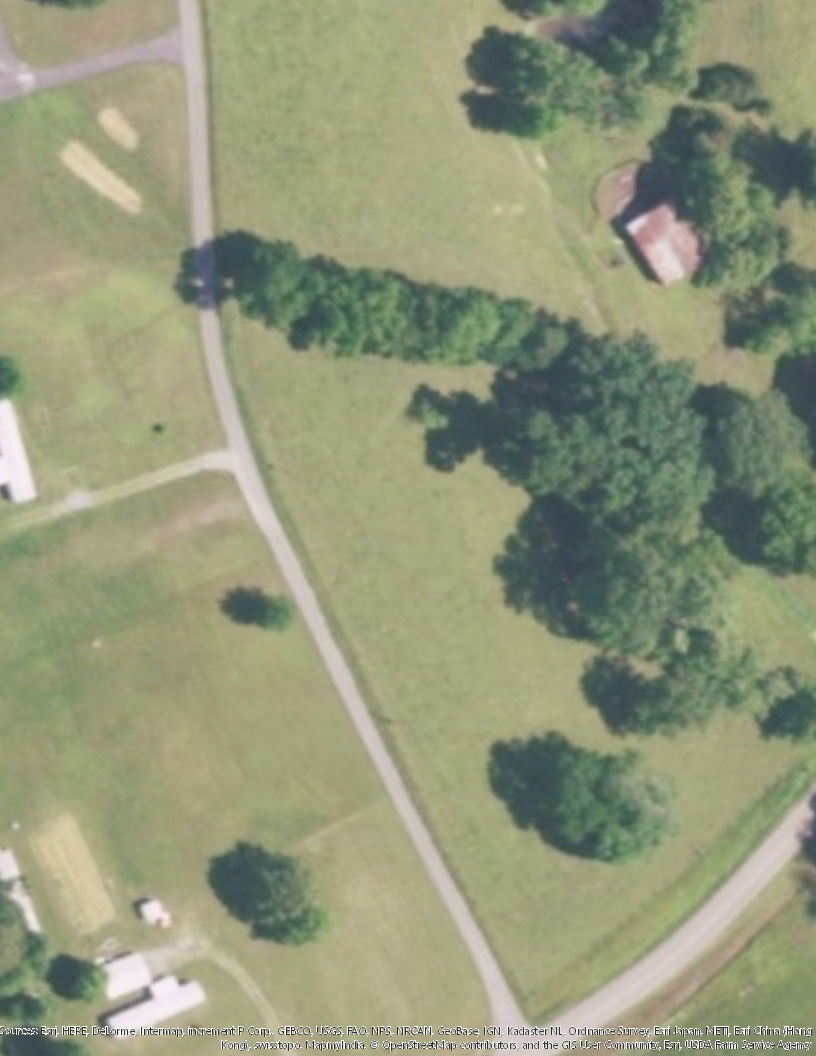cafo: (94, 947, 211, 1038)
